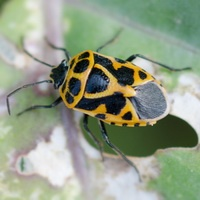insect: (6, 34, 197, 181), (104, 122, 133, 148)
